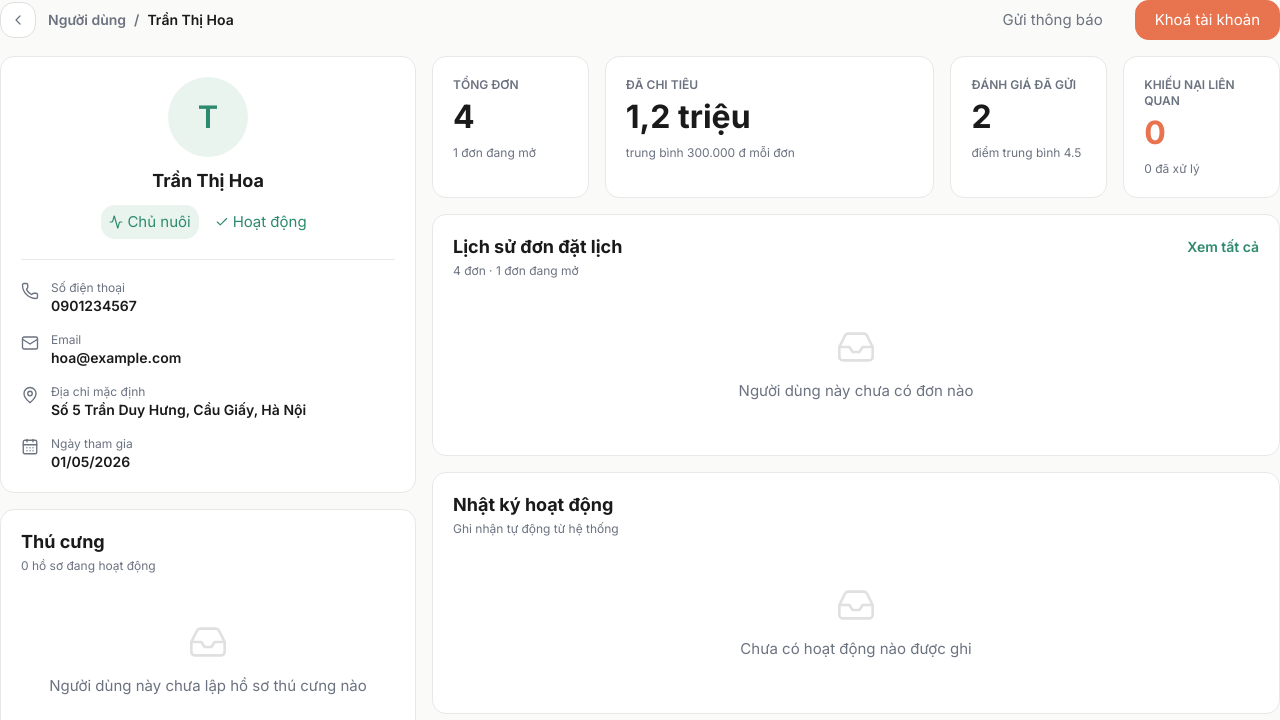
Test: Màn chi tiết người dùng không còn nút chết › bỏ hẳn nút đặt lại mật khẩu, hai nút còn lại đều mở hộp thoại thật
The image size is (1280, 720).
Check: the text "hoa@example.com" is shown, box left=51, top=348, right=181, bottom=368
Click the button "Gửi thông báo". click: (1053, 20)
box: left=982, top=0, right=1123, bottom=40
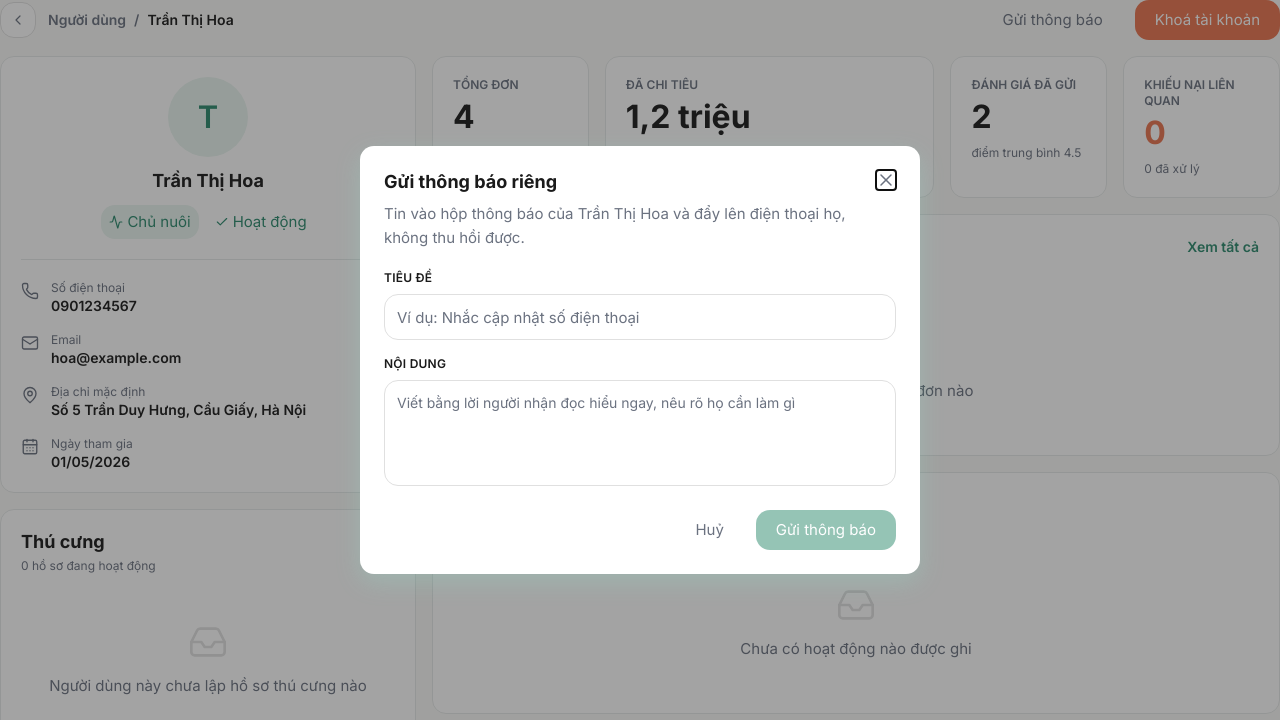
Check: the dialog is shown, box left=360, top=146, right=920, bottom=574
Press Escape
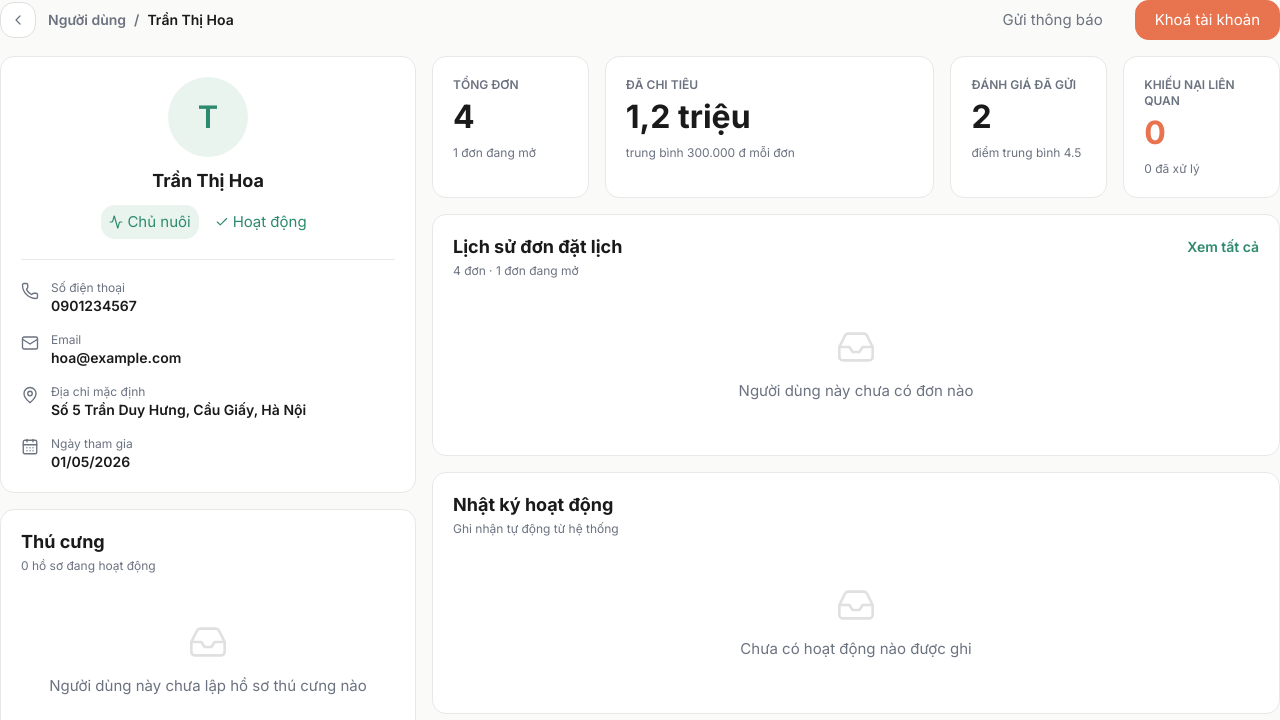
Check: the dialog is gone
Click the button "Khoá tài khoản". click: (1207, 20)
box: left=1135, top=0, right=1279, bottom=40
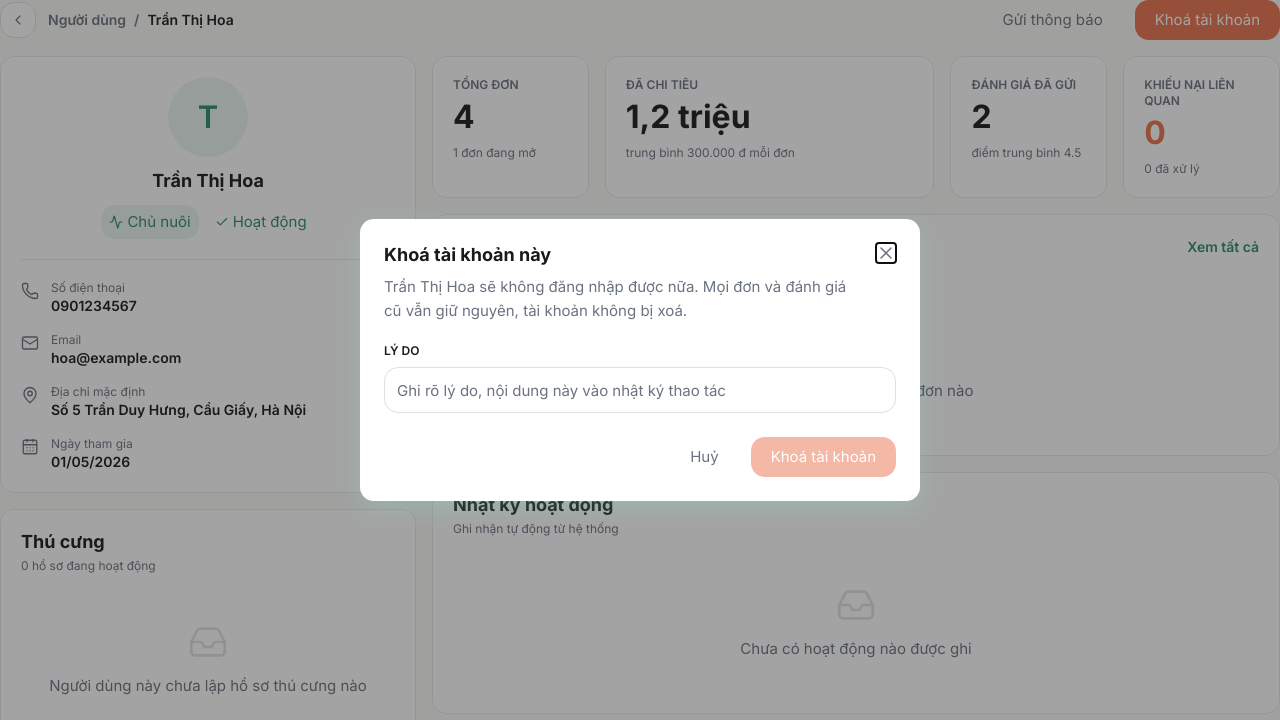
Check: the dialog is shown, box left=360, top=219, right=920, bottom=501
Press Escape
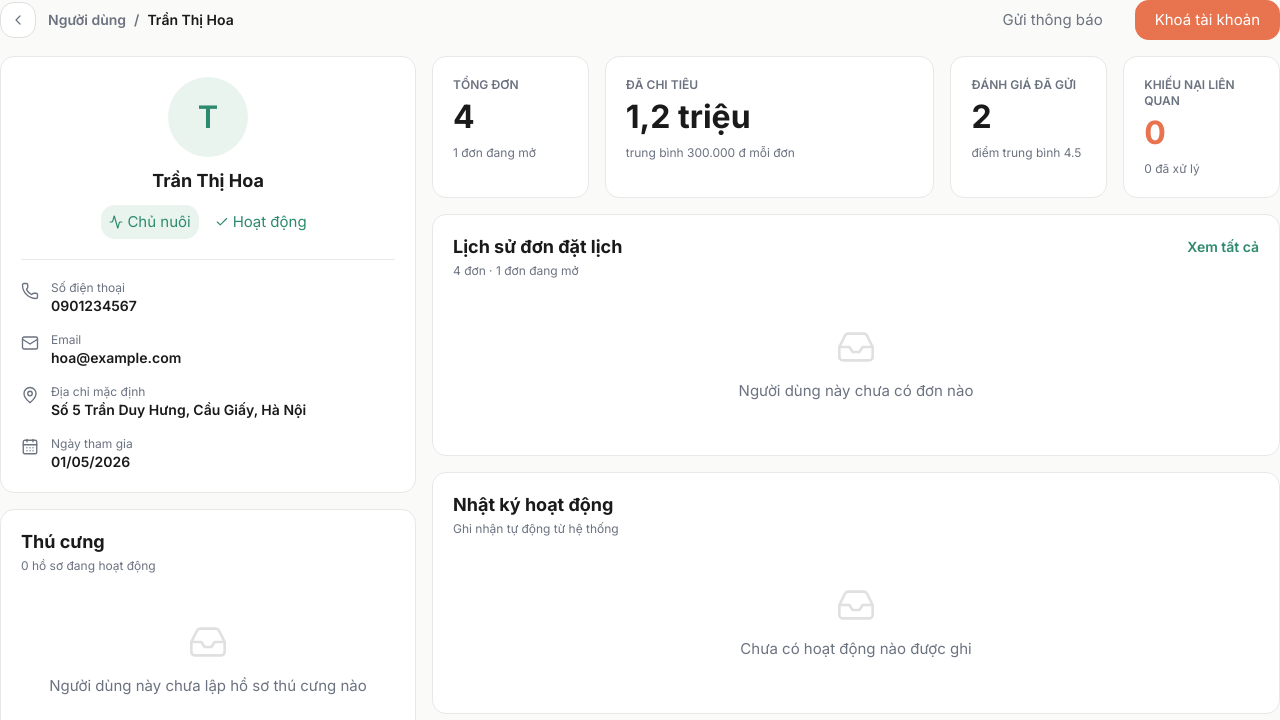
Check: the dialog is gone
